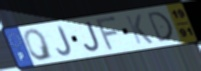D: (145, 10, 176, 44)
F: (95, 15, 121, 53)
J: (83, 20, 102, 53), (55, 25, 73, 57)
K: (124, 13, 155, 46)
Q: (22, 27, 57, 62)
